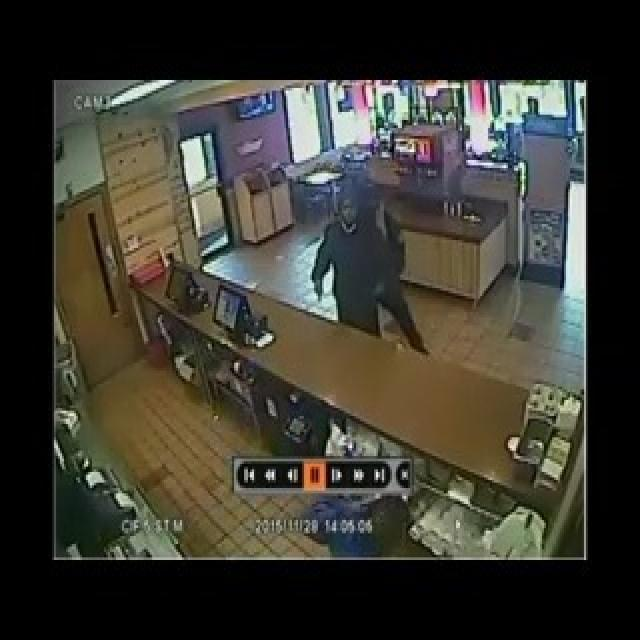Shoplifting: (259, 121, 474, 401)
